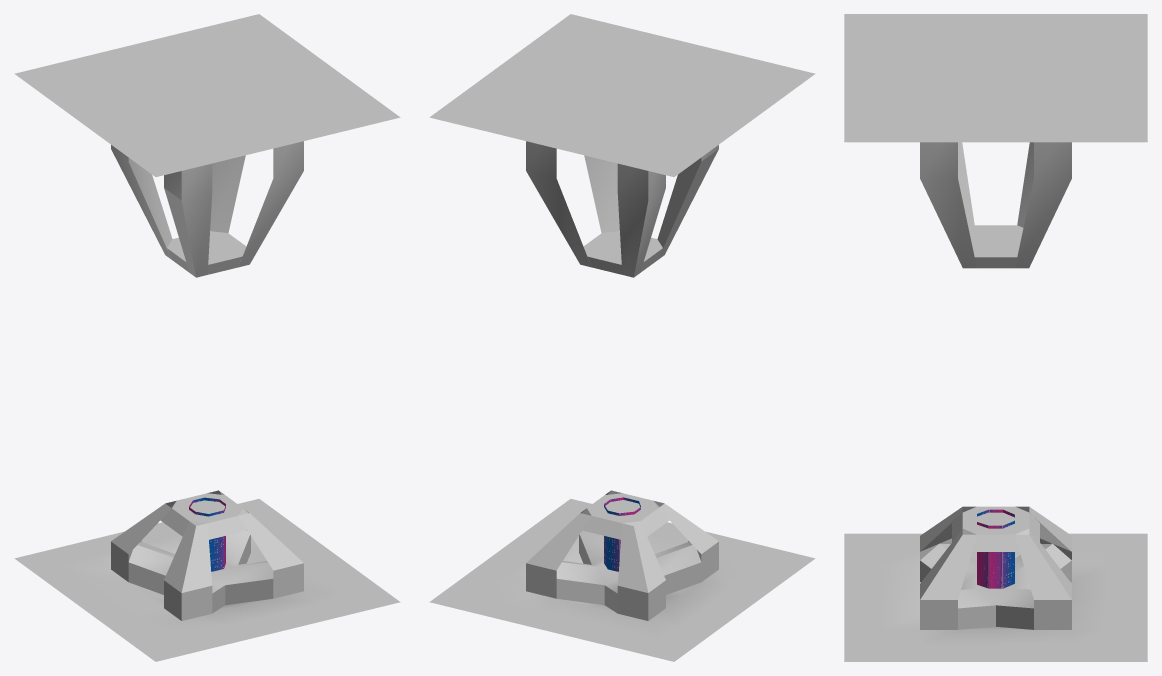
The model's file is cbhang02.FBX.
3 renders of one model, left to right at view 1: azimuth 30°, elevation 25°; view 2: azimuth 150°, elevation 25°; view 3: azimuth 270°, elevation 25°, orthographic. The views are drawn at different scales.
Parts seen in each view (by area): view 1: tower5, terrain, nodule1, tower, tower3, tower2, glaSS1__e2g; view 2: tower5, terrain, nodule1, tower, tower3, tower2, glaSS1__e2g; view 3: tower5, terrain, nodule1, tower, tower3, glaSS1__e2g, tower2, tower4.
Boxes of the visible parts, bbox=[...] form: tower5: bbox=[14, 14, 400, 176]; terrain: bbox=[14, 499, 400, 661]; nodule1: bbox=[128, 231, 273, 613]; tower: bbox=[111, 490, 303, 620]; tower3: bbox=[111, 141, 303, 277]; tower2: bbox=[128, 155, 245, 252]; glaSS1__e2g: bbox=[189, 497, 225, 571]; tower5: bbox=[429, 14, 815, 176]; terrain: bbox=[429, 499, 815, 661]; nodule1: bbox=[556, 231, 701, 613]; tower: bbox=[526, 490, 718, 620]; tower3: bbox=[526, 141, 718, 277]; tower2: bbox=[584, 155, 701, 252]; glaSS1__e2g: bbox=[604, 497, 640, 571]; tower5: bbox=[844, 14, 1147, 142]; terrain: bbox=[844, 533, 1147, 661]; nodule1: bbox=[920, 225, 1071, 629]; tower: bbox=[920, 506, 1071, 629]; tower3: bbox=[920, 142, 1071, 268]; glaSS1__e2g: bbox=[977, 509, 1014, 588]; tower2: bbox=[958, 142, 1033, 227]; tower4: bbox=[920, 513, 1071, 559].
Bounding box in the file's own units: 64 × 124 × 64.
